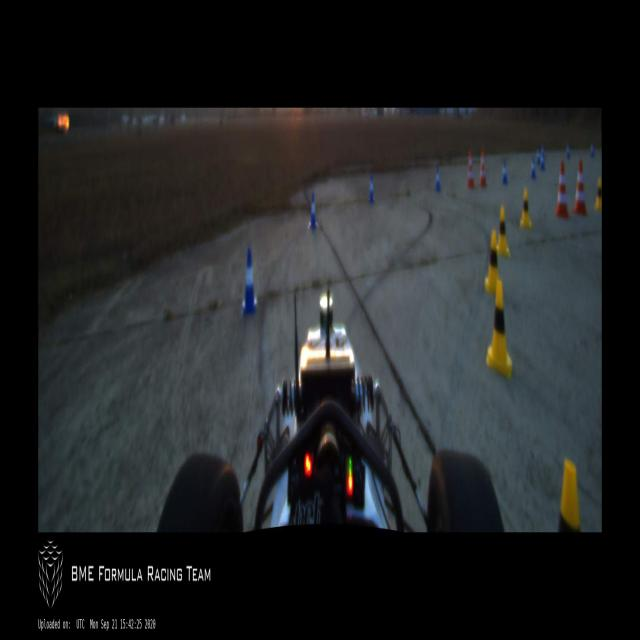blue_cone: (240, 248, 258, 315), (308, 192, 318, 231), (368, 175, 375, 203), (434, 164, 441, 190), (502, 158, 508, 184), (530, 156, 536, 179), (540, 151, 545, 171), (536, 148, 540, 166)
large_orange_cone: (556, 162, 570, 220), (573, 160, 587, 215), (479, 148, 487, 187), (467, 149, 474, 189)
yellow_cone: (486, 283, 512, 377), (558, 458, 580, 532), (486, 232, 498, 292), (496, 208, 509, 257), (520, 188, 532, 230), (594, 177, 602, 211)
